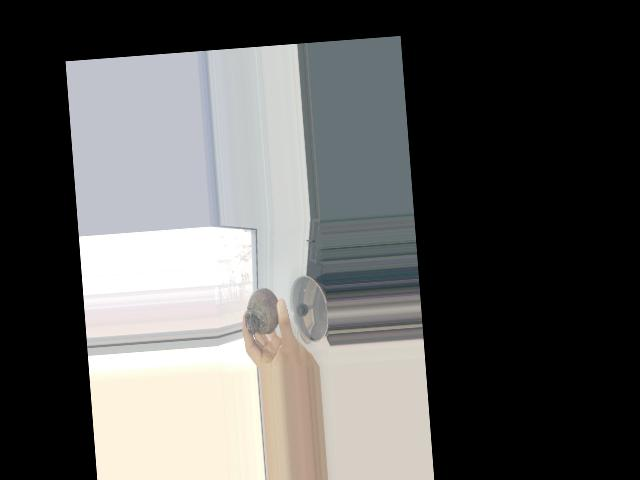beet: (242, 286, 282, 348)
